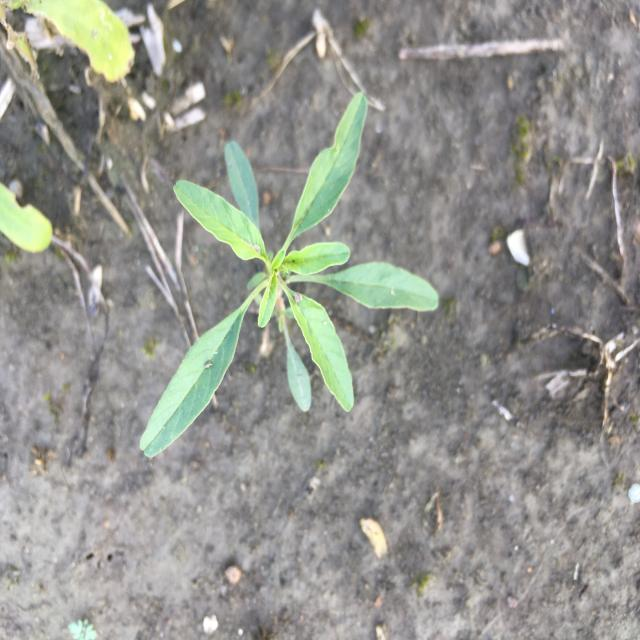Eclipta: (138, 91, 440, 462)
